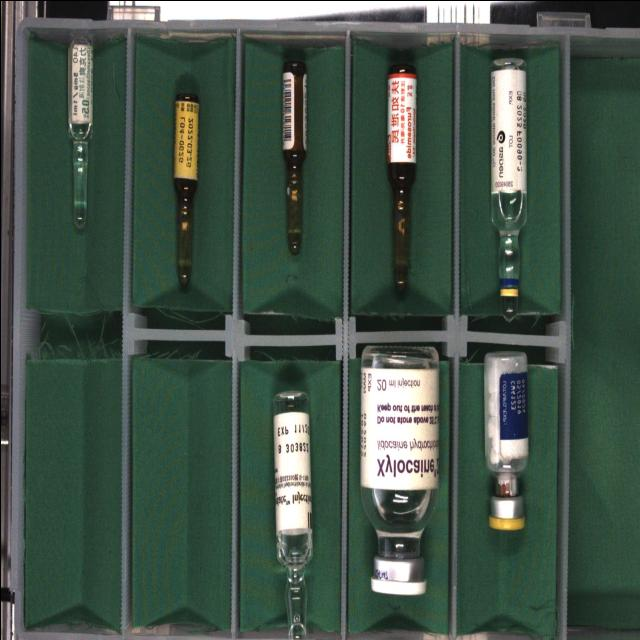Vials: (359, 346, 439, 594), (483, 351, 527, 530)
